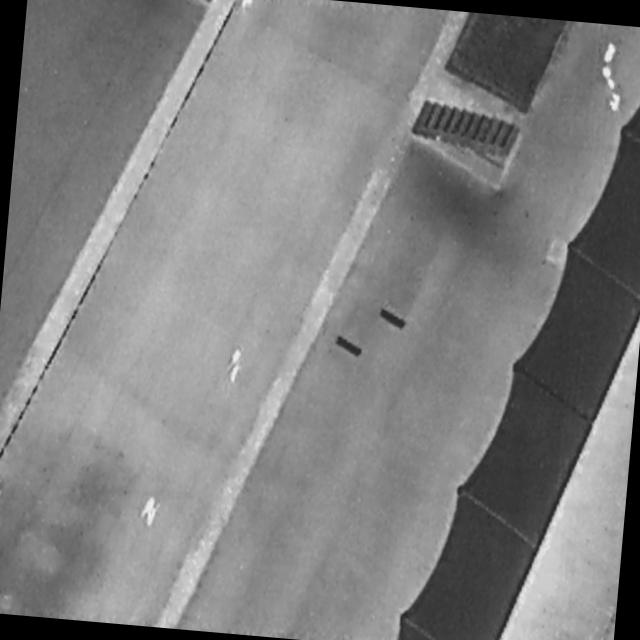person: (227, 346, 245, 388), (140, 498, 160, 528), (240, 1, 257, 10), (1, 474, 5, 509)
